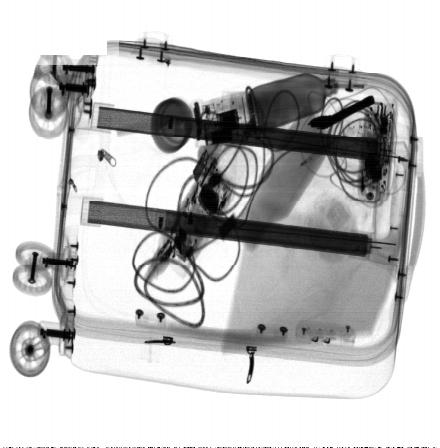Gun: (308, 95, 375, 133)
